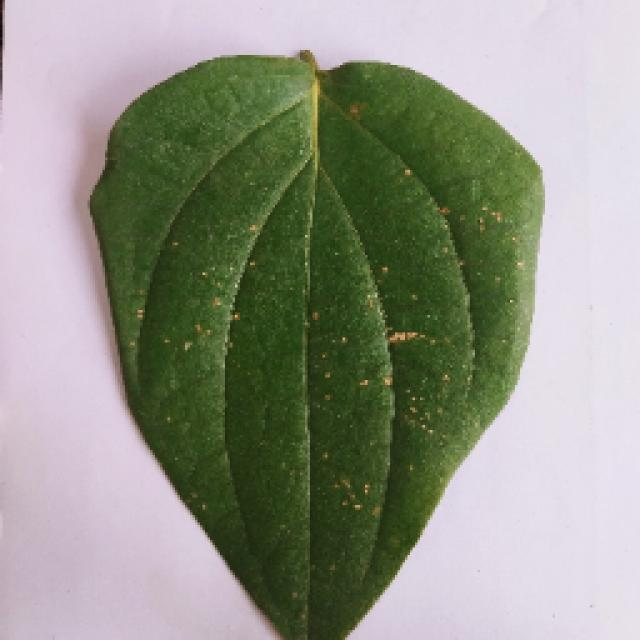pollu-disease: (62, 55, 562, 635)
